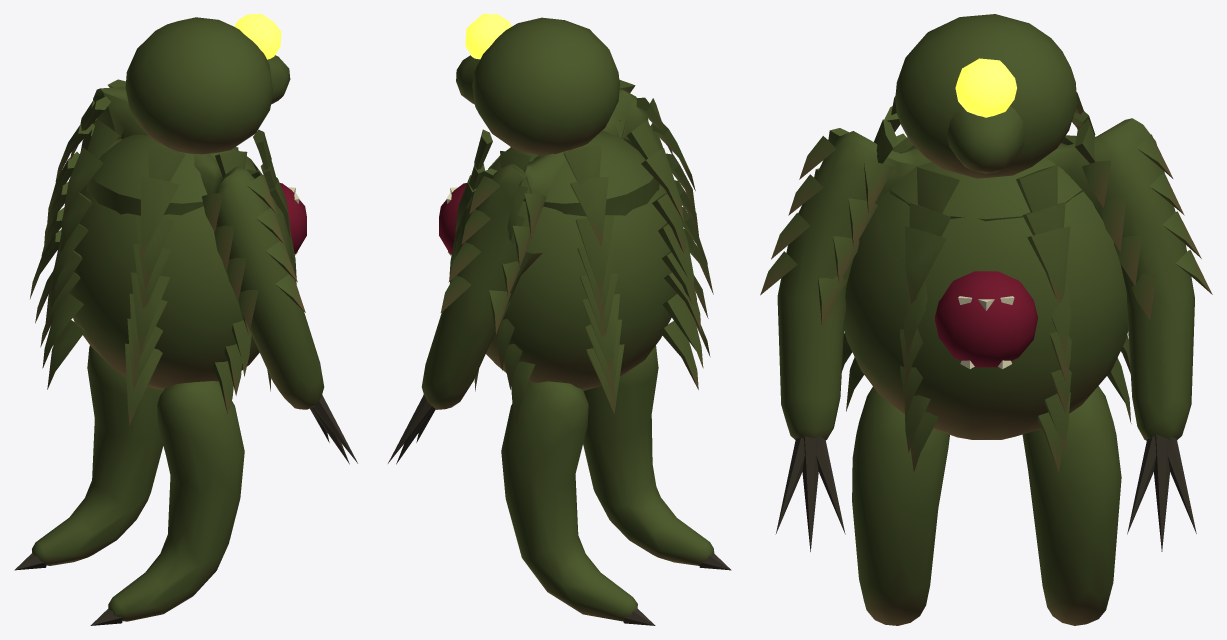
The model's file is mapinguari.glb.
3 renders of one model, left to right at view 1: azimuth 30°, elevation 25°; view 2: azimuth 150°, elevation 25°; view 3: azimuth 270°, elevation 25°, orthographic. The views are drawn at different scales.
Visible parts, largest first — view 1: mapinguari.001; view 2: mapinguari.001; view 3: mapinguari.001.
Part boxes in pixels (x1,y1,x2,y2): mapinguari.001: (14,14,357,625); mapinguari.001: (388,14,731,625); mapinguari.001: (760,14,1212,625).
Size of the model in its own units: 1.1 by 2.2 by 1.39.
